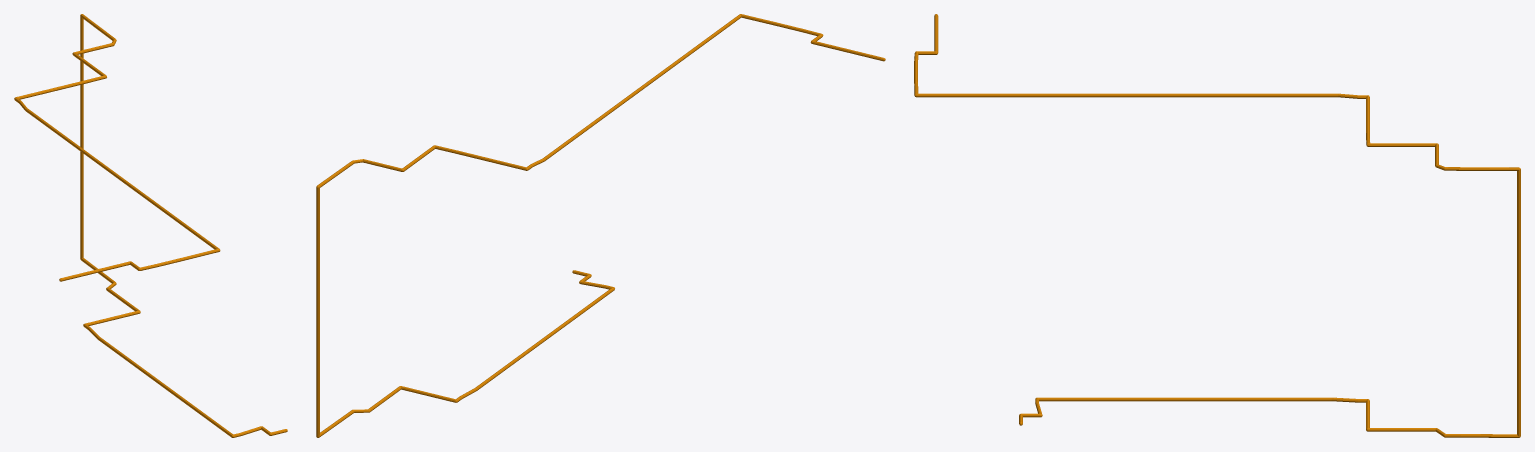
3 renders of one model, left to right at view 1: azimuth 30°, elevation 25°; view 2: azimuth 150°, elevation 25°; view 3: azimuth 270°, elevation 25°, orthographic. The views are drawn at different scales.
Bounding box in the file's own units: 1870 × 1520 × 3092.
